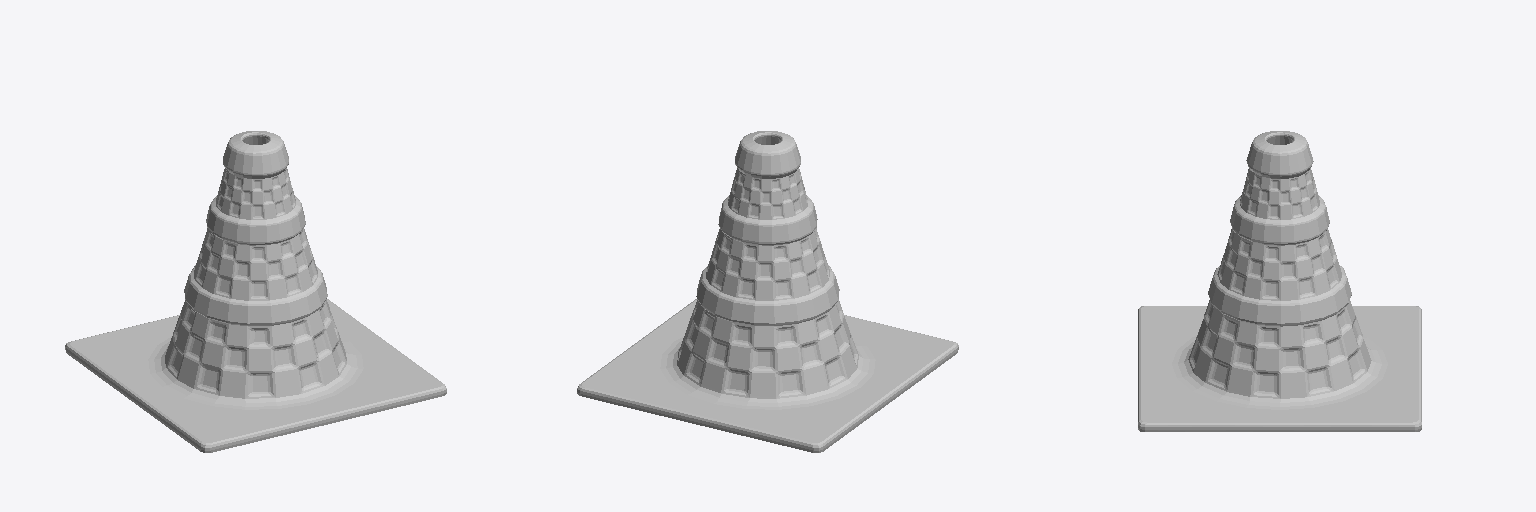
The model's file is Traffic cone_OBJ.obj.
3 renders of one model, left to right at view 1: azimuth 30°, elevation 25°; view 2: azimuth 150°, elevation 25°; view 3: azimuth 270°, elevation 25°, orthographic.
Visible parts, largest first — view 1: Cone4; view 2: Cone4; view 3: Cone4.
Boxes of the visible parts, x1,y1,x2,y2 form: Cone4: [65, 131, 446, 452]; Cone4: [577, 131, 958, 452]; Cone4: [1138, 131, 1421, 431].
Size of the model in its own units: 4.16 by 3.8 by 4.18.